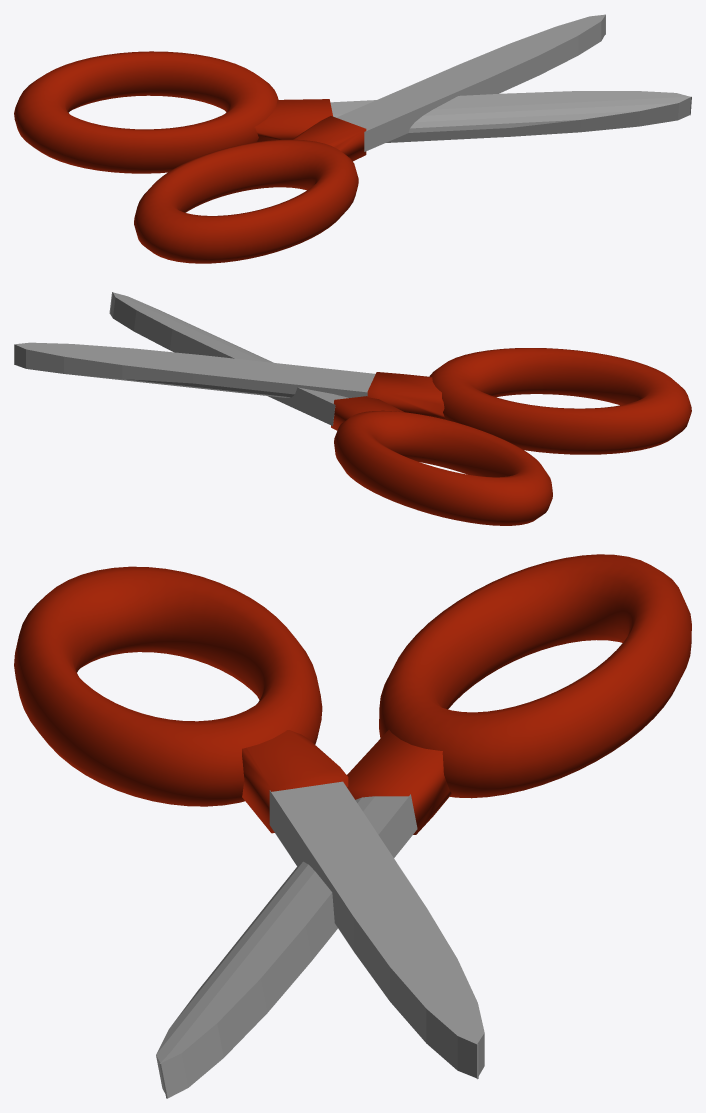
File: hasami.Assets.fbx
3 renders of one model, top to bottom at view 1: azimuth 30°, elevation 25°; view 2: azimuth 150°, elevation 25°; view 3: azimuth 270°, elevation 25°, orthographic. The views are drawn at different scales.
Visible parts, largest first — view 1: toltute.001, toltute.002, ha.002, ha.003, hako.004, hako.001; view 2: toltute.002, toltute.001, ha.003, ha.002, hako.001, hako.004; view 3: toltute.001, toltute.002, ha.003, ha.002, hako.004, hako.001.
Boxes of the visible parts, x1=… form: toltute.001: x1=14, y1=51, x2=278, y2=173; toltute.002: x1=134, y1=139, x2=358, y2=263; ha.002: x1=330, y1=91, x2=691, y2=142; ha.003: x1=336, y1=14, x2=605, y2=151; hako.004: x1=254, y1=99, x2=332, y2=141; hako.001: x1=292, y1=116, x2=366, y2=161; toltute.002: x1=429, y1=348, x2=691, y2=454; toltute.001: x1=334, y1=410, x2=552, y2=525; ha.003: x1=14, y1=342, x2=375, y2=397; ha.002: x1=109, y1=292, x2=348, y2=425; hako.001: x1=367, y1=372, x2=445, y2=419; hako.004: x1=331, y1=396, x2=404, y2=430; toltute.001: x1=379, y1=554, x2=691, y2=798; toltute.002: x1=14, y1=566, x2=322, y2=806; ha.003: x1=269, y1=781, x2=484, y2=1079; ha.002: x1=156, y1=794, x2=417, y2=1098; hako.004: x1=347, y1=730, x2=451, y2=834; hako.001: x1=242, y1=730, x2=348, y2=833.
Bounding box in the file's own units: 78.75 × 8.76 × 47.46.
